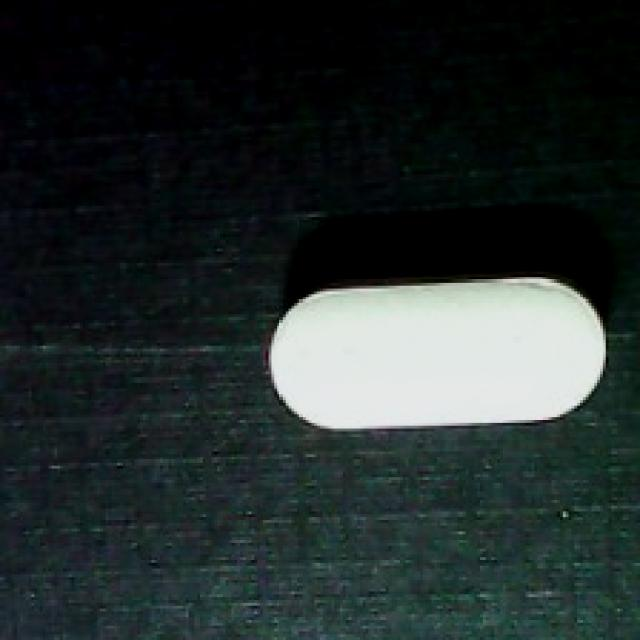no-defect: (269, 263, 611, 434)
